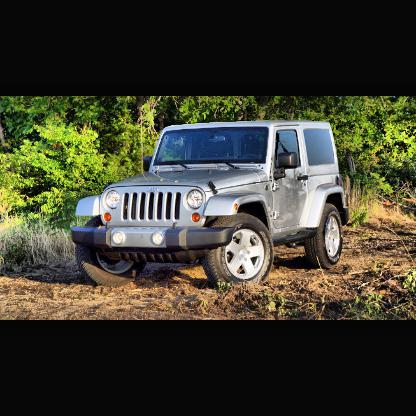Jeep Wrangler SUV 2012: (71, 116, 353, 290)
